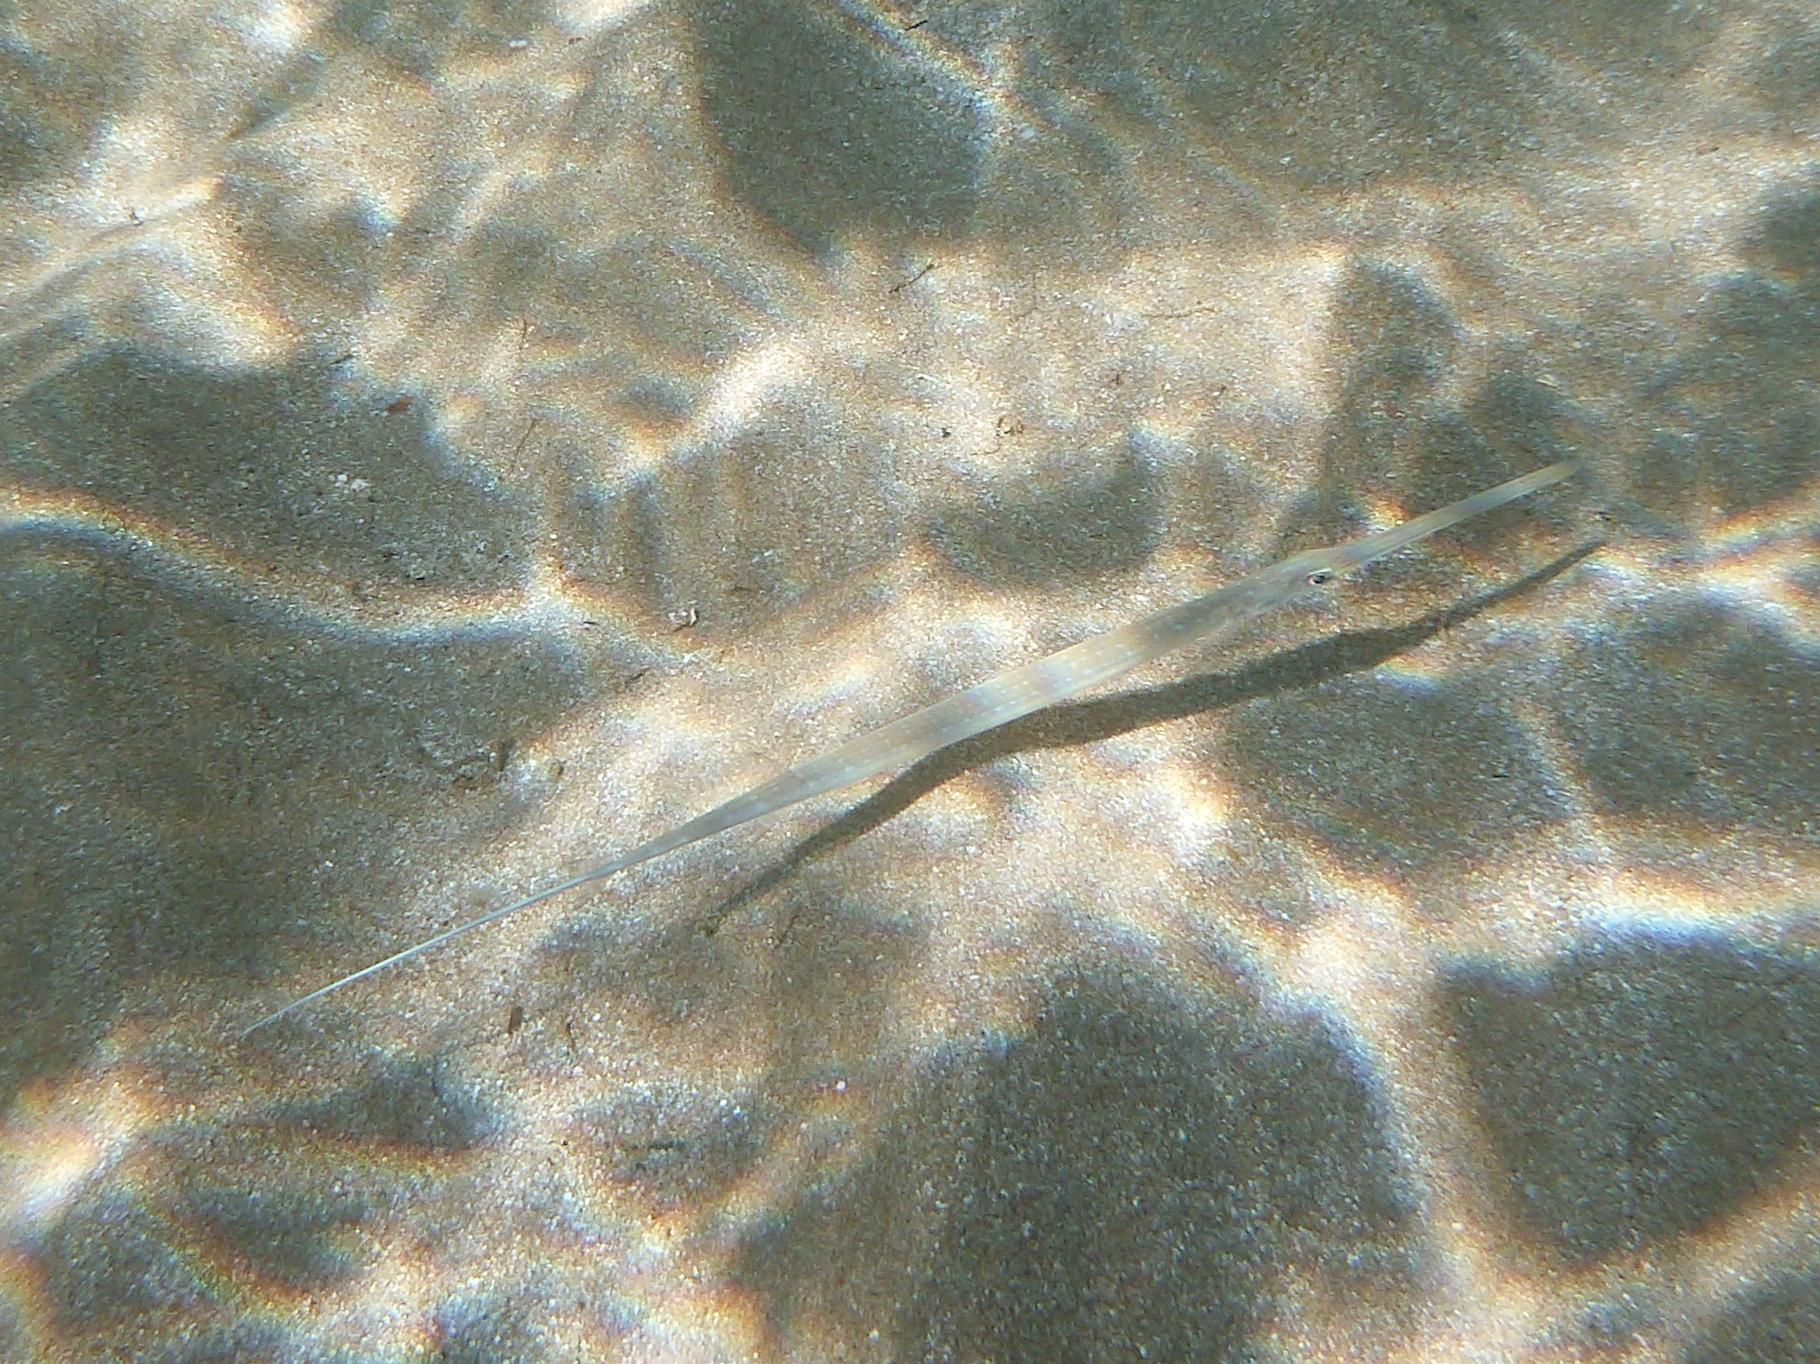Fistularia commersonii: (254, 269, 1674, 1052)
